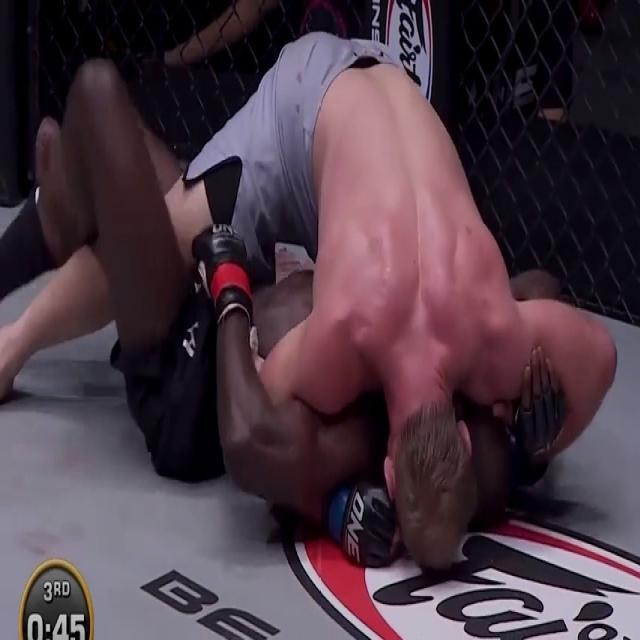fight: (1, 0, 635, 637)
